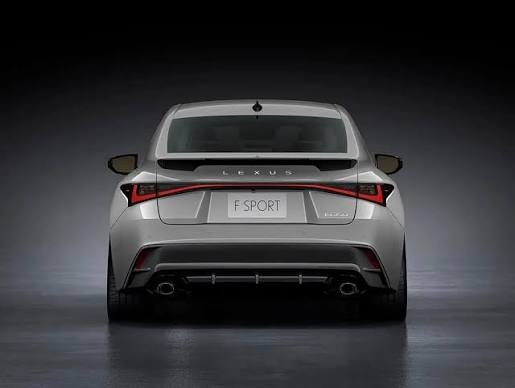car: (98, 94, 410, 317)
